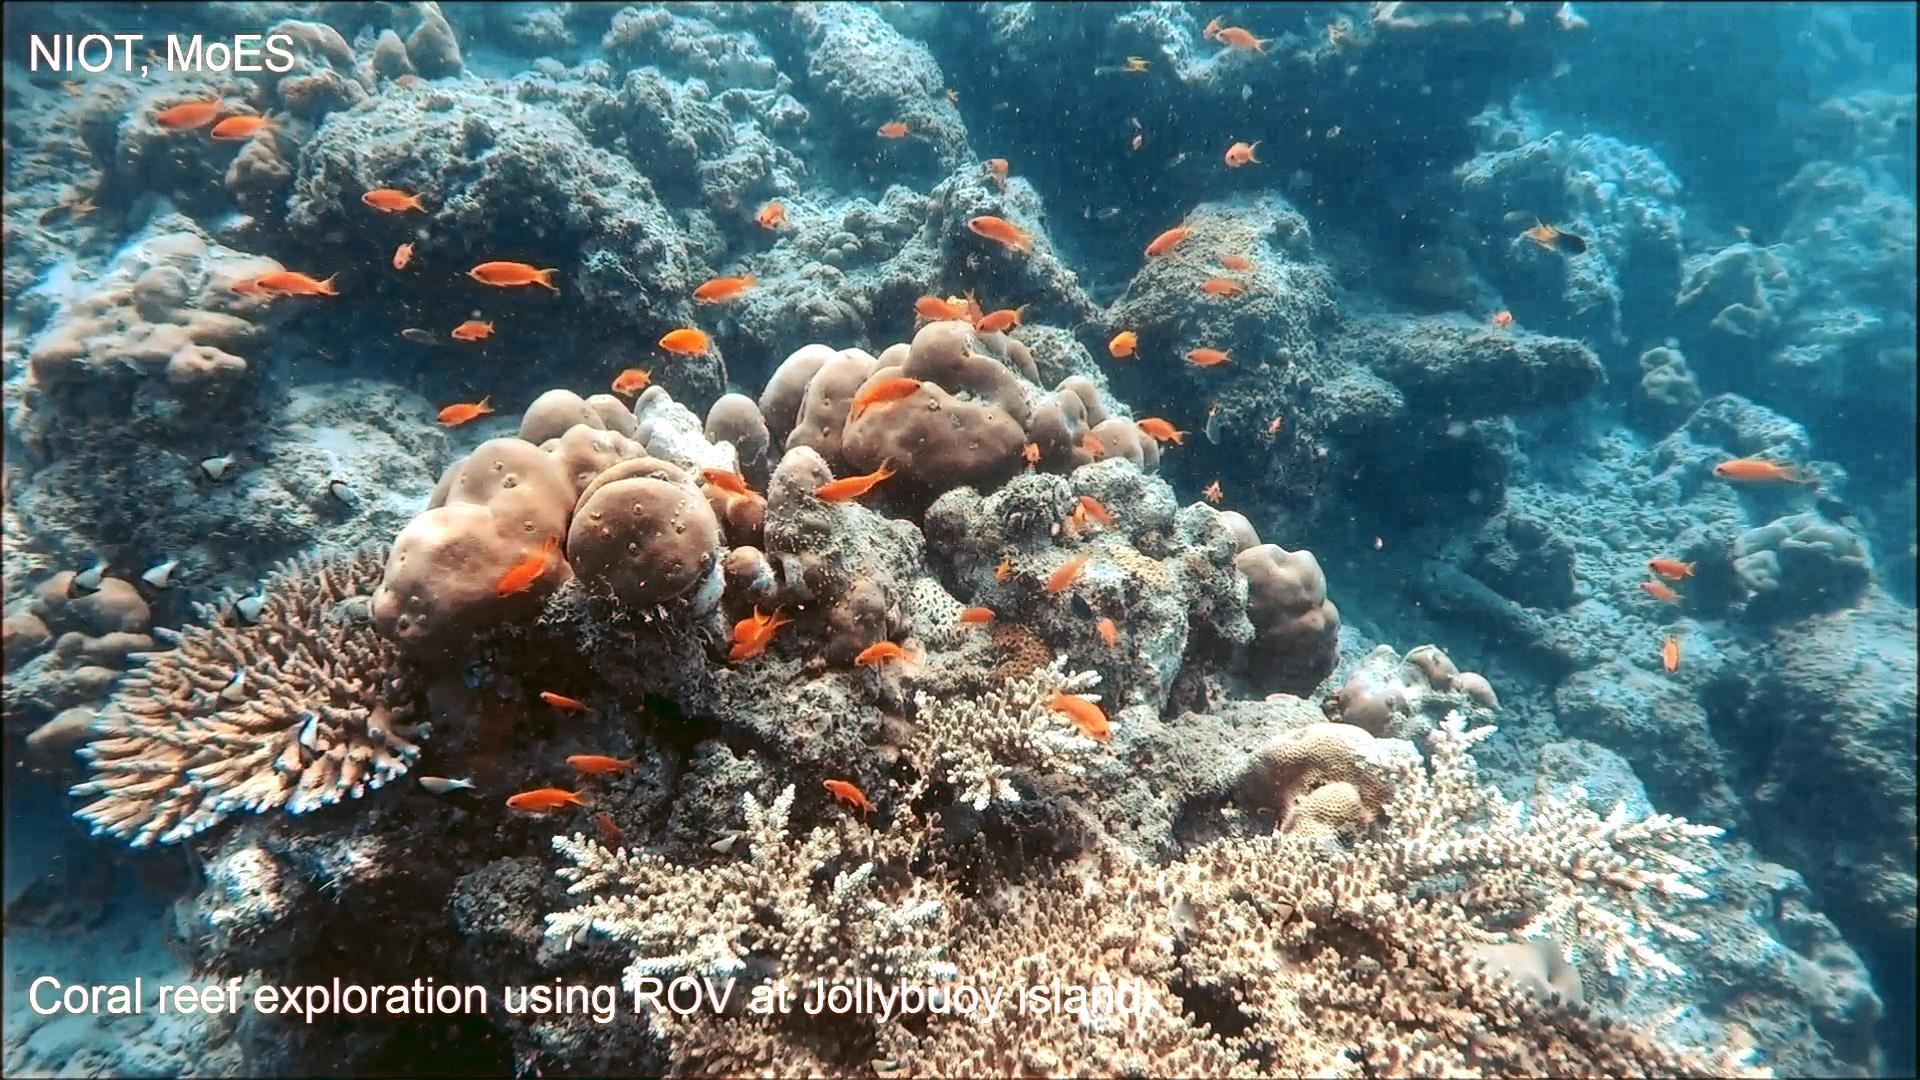Porites-Porites pukoensis: (363, 380, 727, 671), (742, 313, 1170, 485)
